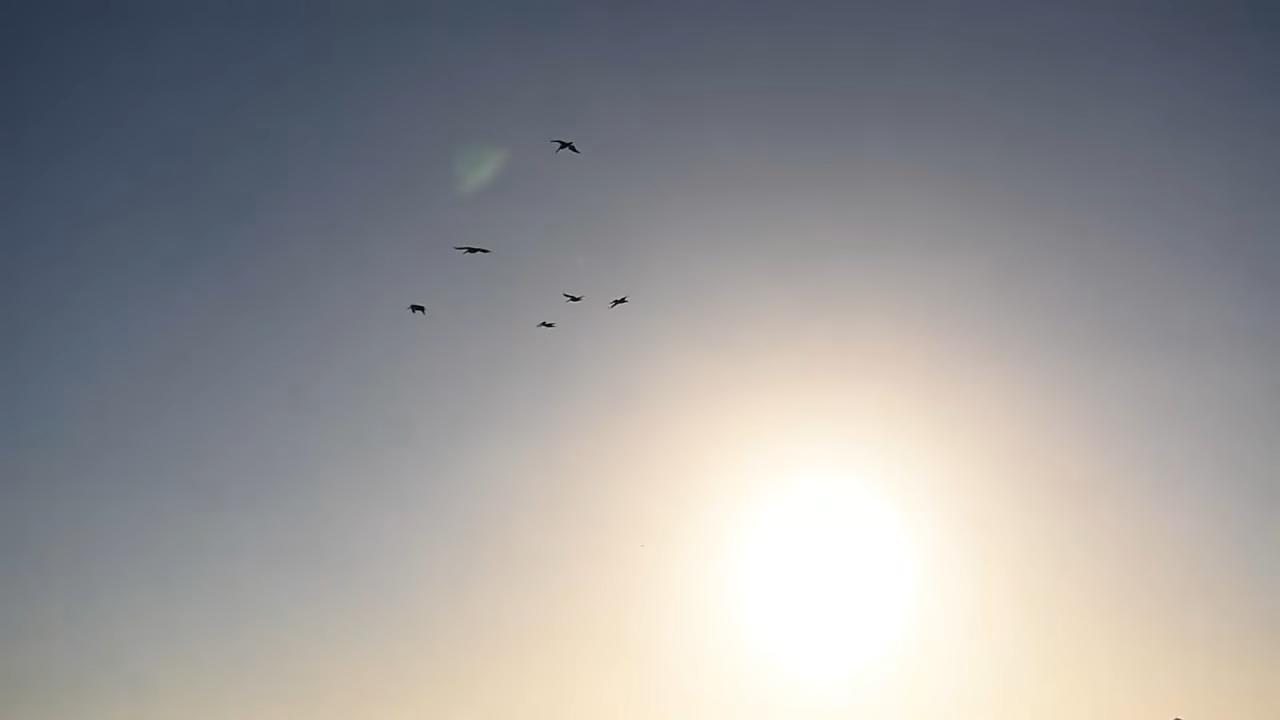Bird: (446, 239, 496, 261), (541, 136, 585, 160), (603, 290, 635, 312), (403, 300, 431, 321), (558, 289, 589, 307), (532, 316, 559, 334)
